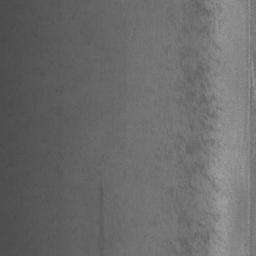Silk spot: (151, 0, 226, 256)
